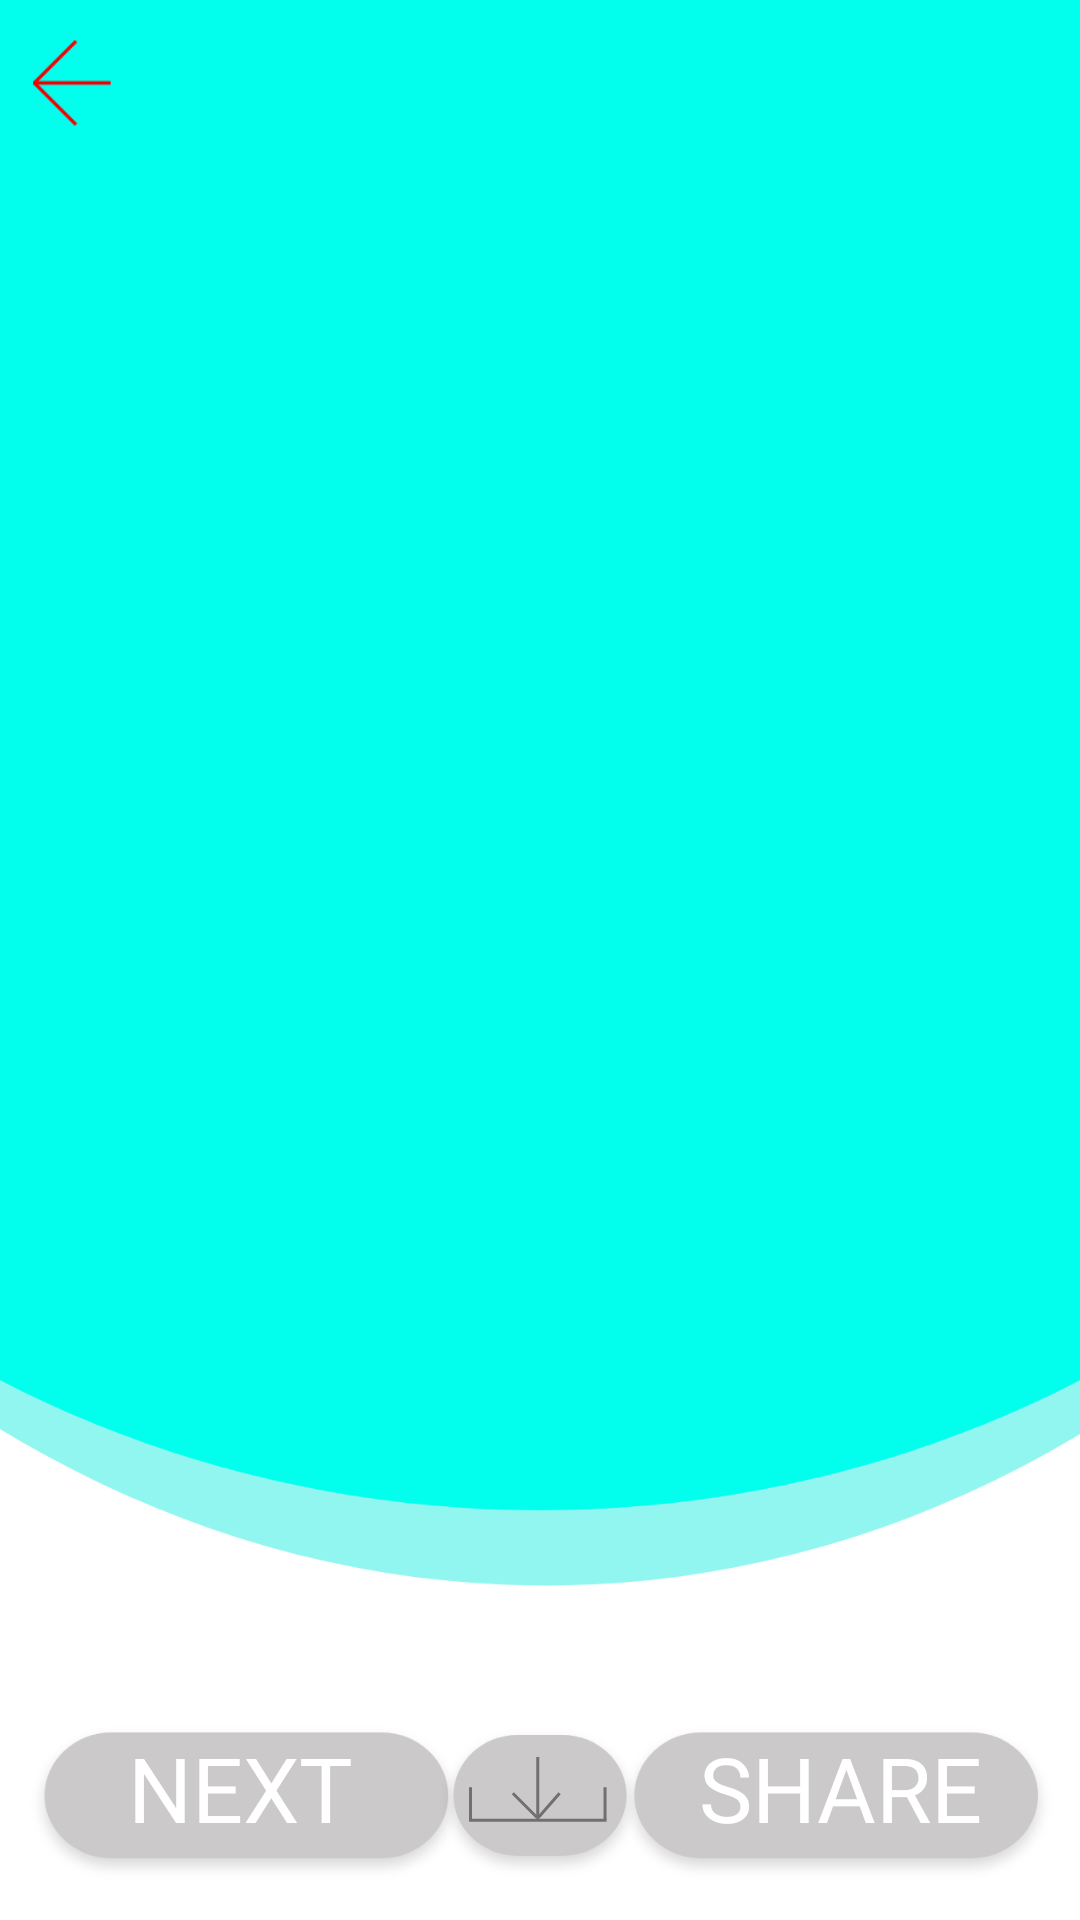

Icon click points for this 1080×1920 phone screenshot, format (x,y):
backbtntop: (72,83)
downloadbtn: (538,1789)
